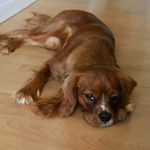puppy: (1, 6, 140, 128)
